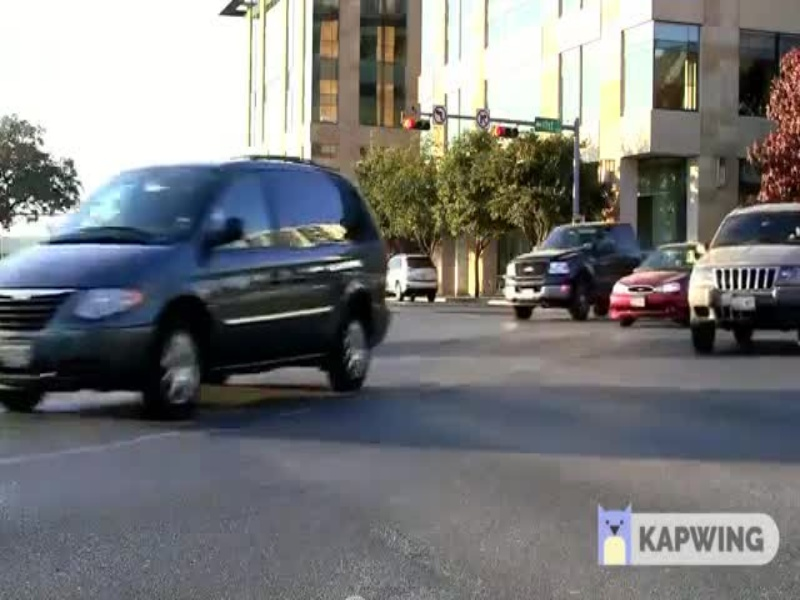car: (606, 236, 706, 329)
suv: (683, 185, 800, 365)
truck: (501, 213, 653, 330)
van: (1, 149, 402, 419)
